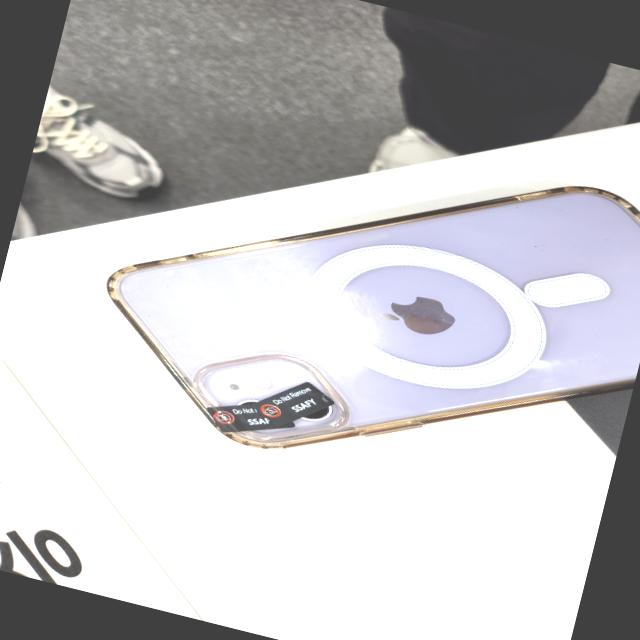phone: (73, 76, 640, 534)
sticker: (249, 370, 337, 436), (201, 390, 297, 447)
